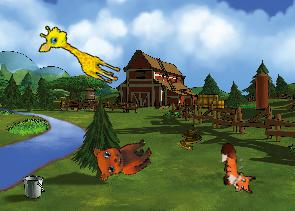bear: (87, 125, 157, 188)
fox: (219, 142, 256, 195)
giraffe: (33, 21, 127, 87)
